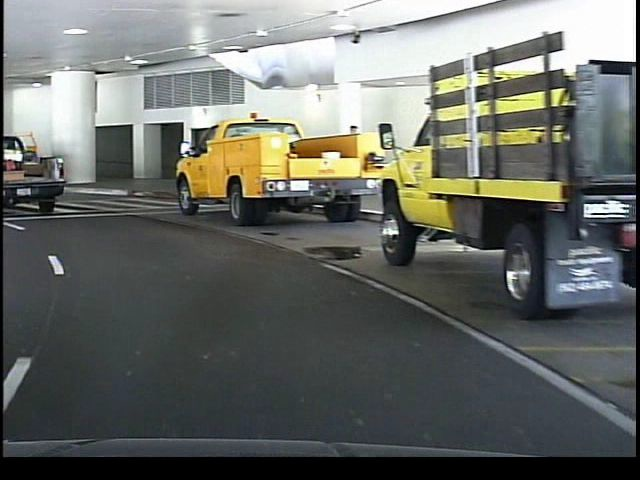person: (339, 119, 365, 202)
